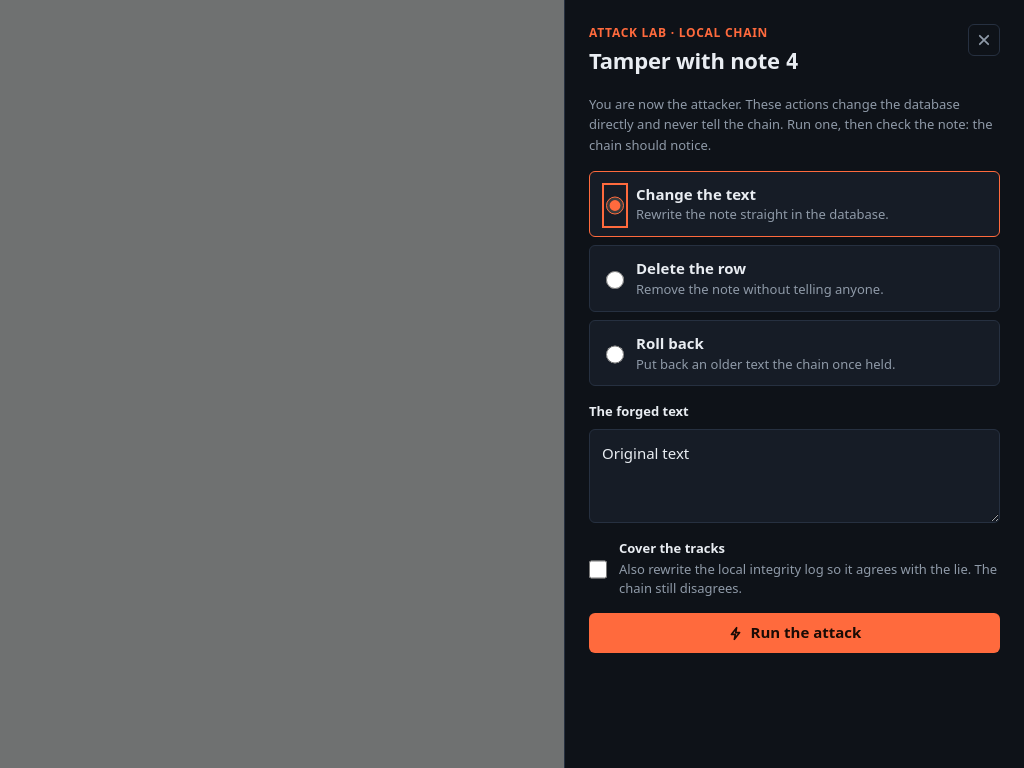
AttackLab › starts from the note text and runs a change with the chosen options
Replace the text in the text box labelled "The forged text" with "  Forged  " at (794, 476), box x1=589 y1=429 x2=1000 y2=523
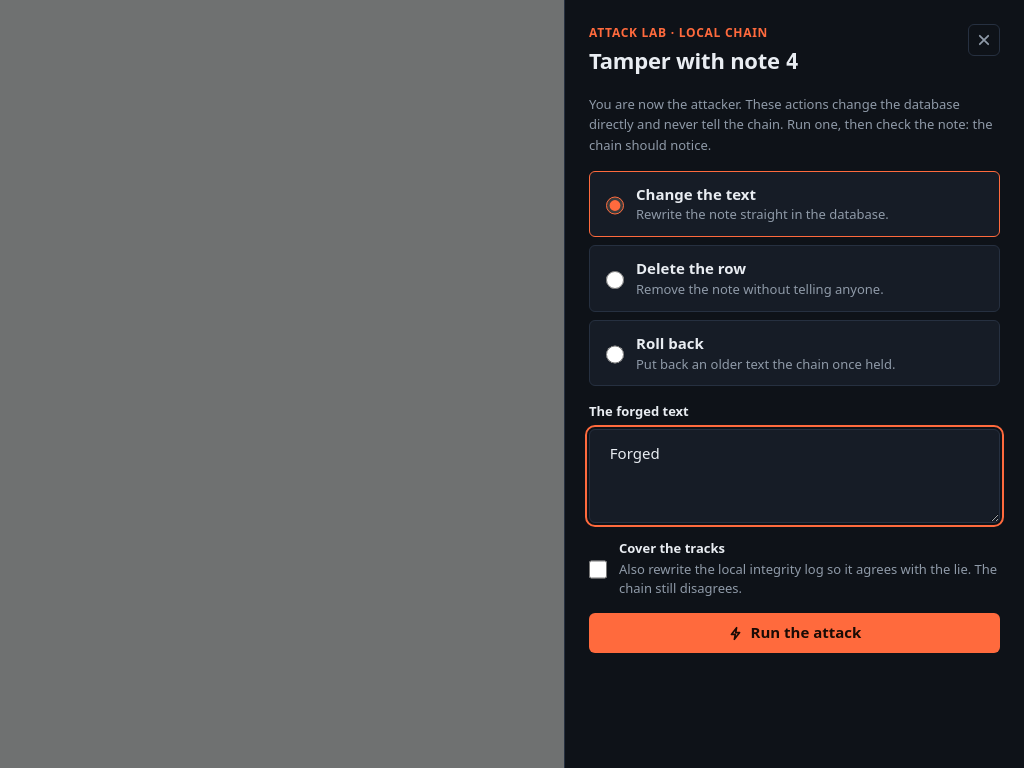
Click the checkbox labelled "Cover the tracks" at (598, 570), box x1=589 y1=542 x2=607 y2=597
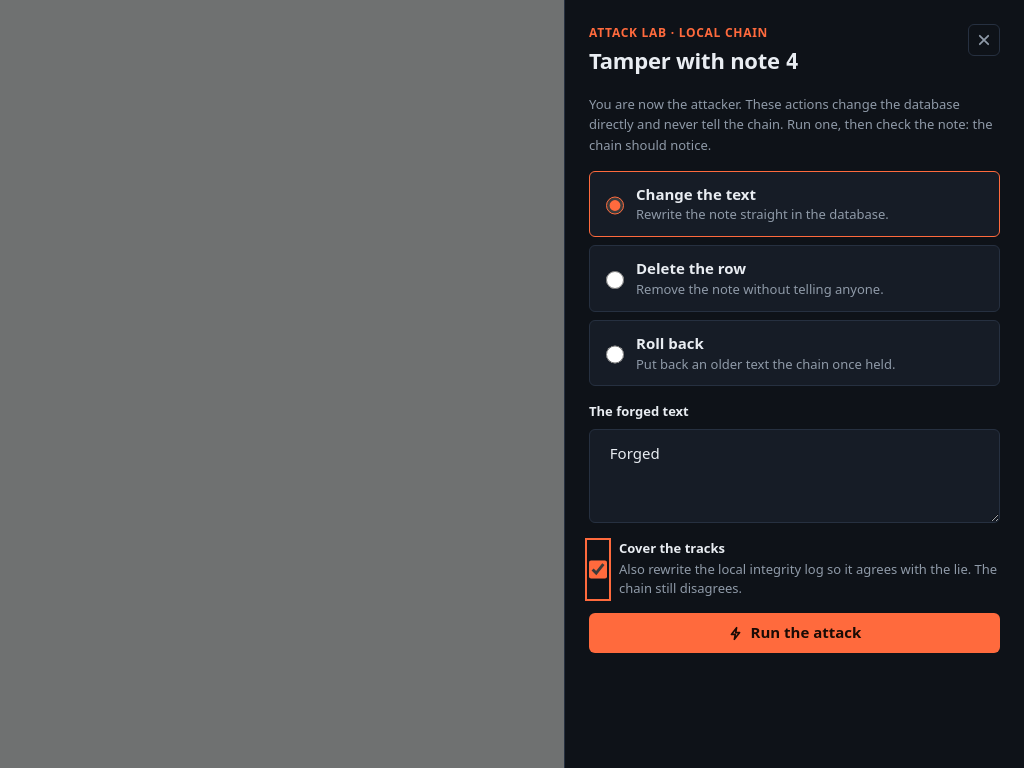
Click the button "Run the attack" at (794, 633), box x1=589 y1=613 x2=1000 y2=653
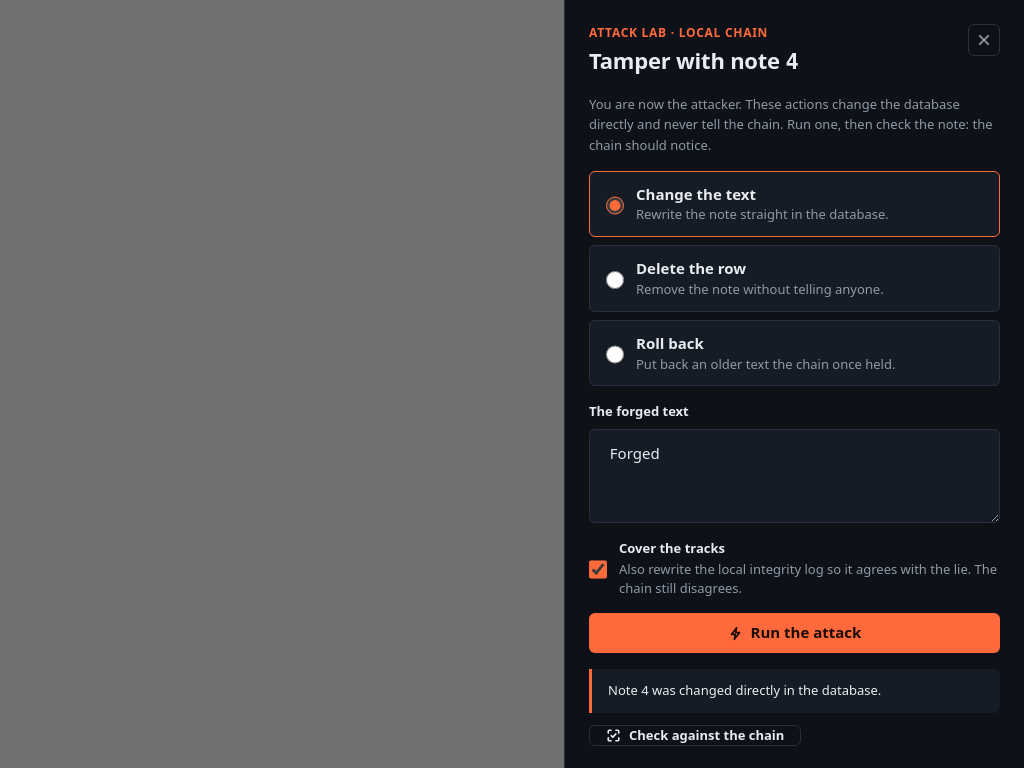
Check: the text "Note 4 was changed directly in the database." is shown, box x1=589 y1=669 x2=1000 y2=713
